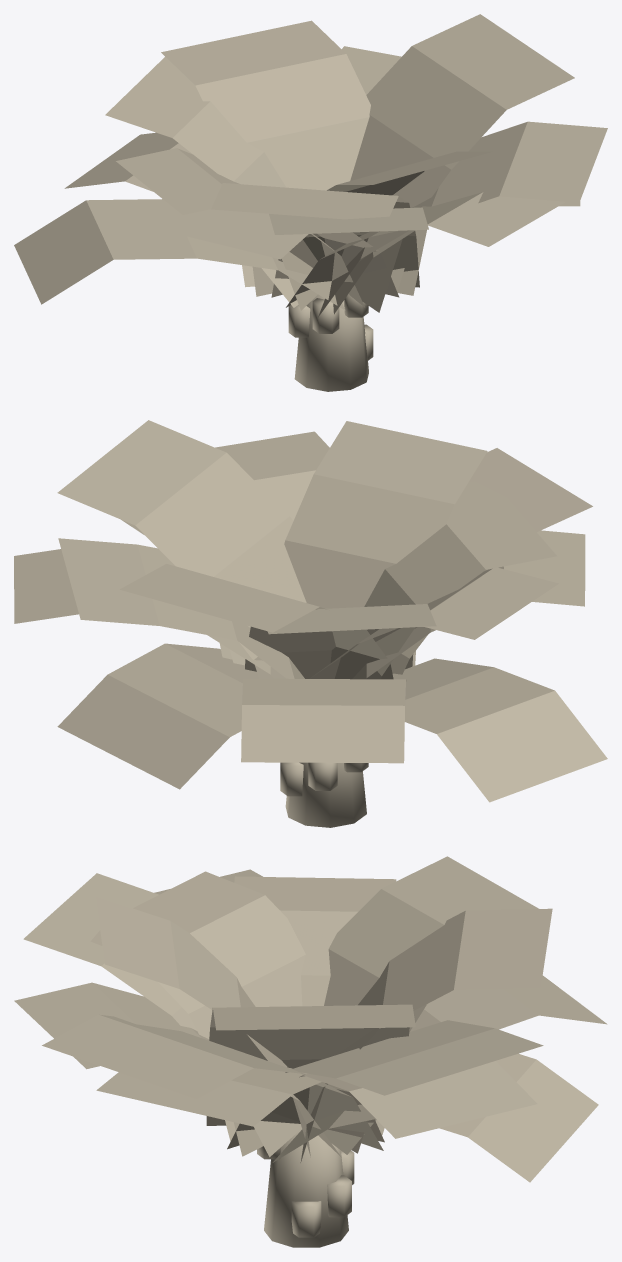
File: hood_palm_short.glb
3 views of the same model, one above another, from view 1: azimuth 30°, elevation 25°; view 2: azimuth 150°, elevation 25°; view 3: azimuth 270°, elevation 25° (orthographic). The views are drawn at different scales.
Visible parts, largest first — view 1: fronds, boot.013; view 2: fronds, boot.013; view 3: fronds, boot.013.
Boxes of the visible parts, x1,y1,x2,y2 form: fronds: (14,14,607,317); boot.013: (288,293,373,391); fronds: (14,420,607,802); boot.013: (280,762,368,827); fronds: (14,856,607,1182); boot.013: (257,1129,354,1247).
Bounding box in the file's own units: 3.15 × 1.61 × 2.79.
